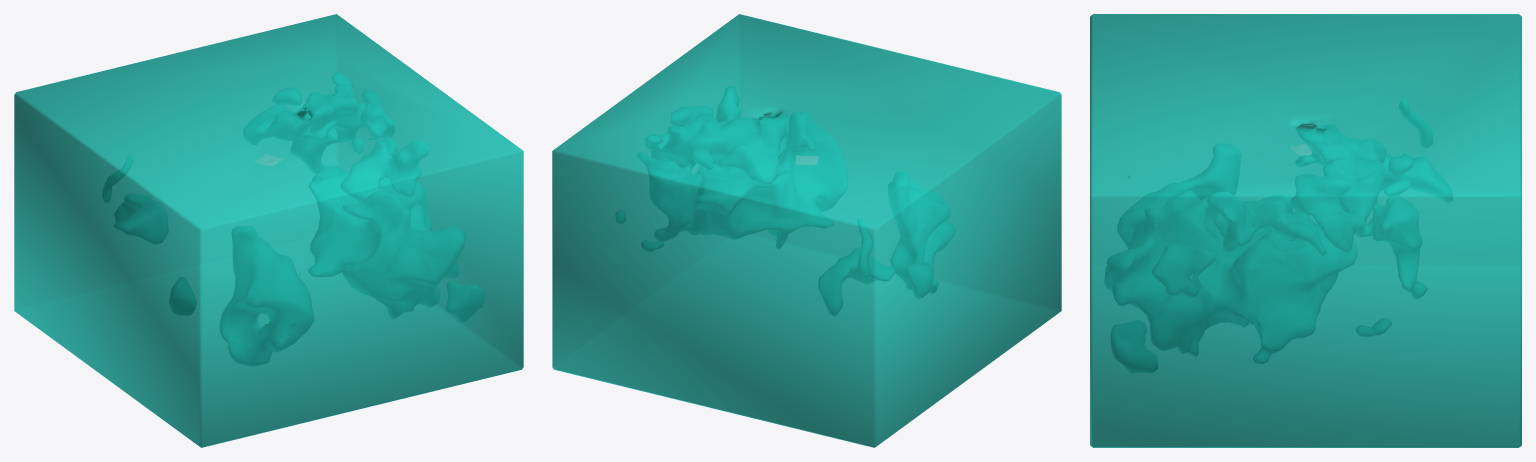
3 renders of one model, left to right at view 1: azimuth 30°, elevation 25°; view 2: azimuth 150°, elevation 25°; view 3: azimuth 270°, elevation 25°, orthographic. The views are drawn at different scales.
Visible parts, largest first — view 1: Liquid_Domain; view 2: Liquid_Domain; view 3: Liquid_Domain.
Part boxes in pixels (x1,y1,x2,y2): Liquid_Domain: (14, 14, 523, 447); Liquid_Domain: (552, 14, 1061, 447); Liquid_Domain: (1090, 14, 1521, 447).
Size of the model in its own units: 391 by 254 by 391.
